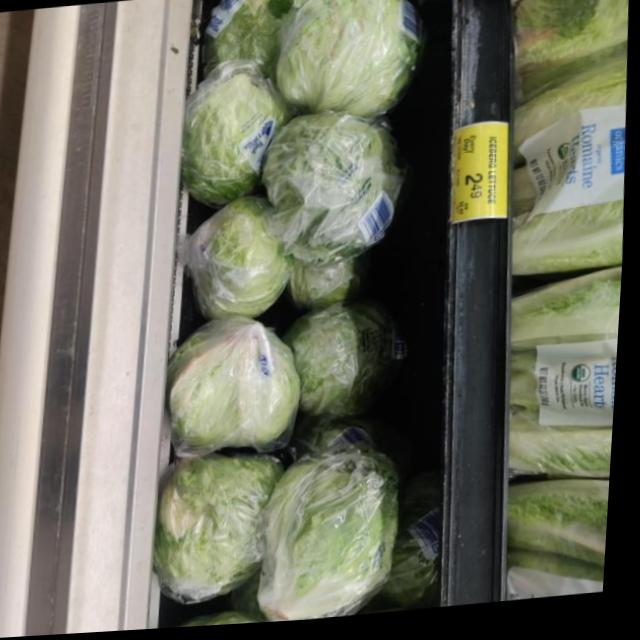Lettuce: (503, 76, 635, 286), (504, 279, 626, 489), (261, 453, 408, 626), (149, 458, 297, 607), (268, 113, 412, 261), (168, 318, 309, 458), (280, 0, 426, 120), (190, 196, 300, 334), (178, 95, 295, 216), (506, 0, 633, 106), (294, 308, 405, 426), (511, 486, 616, 607)
